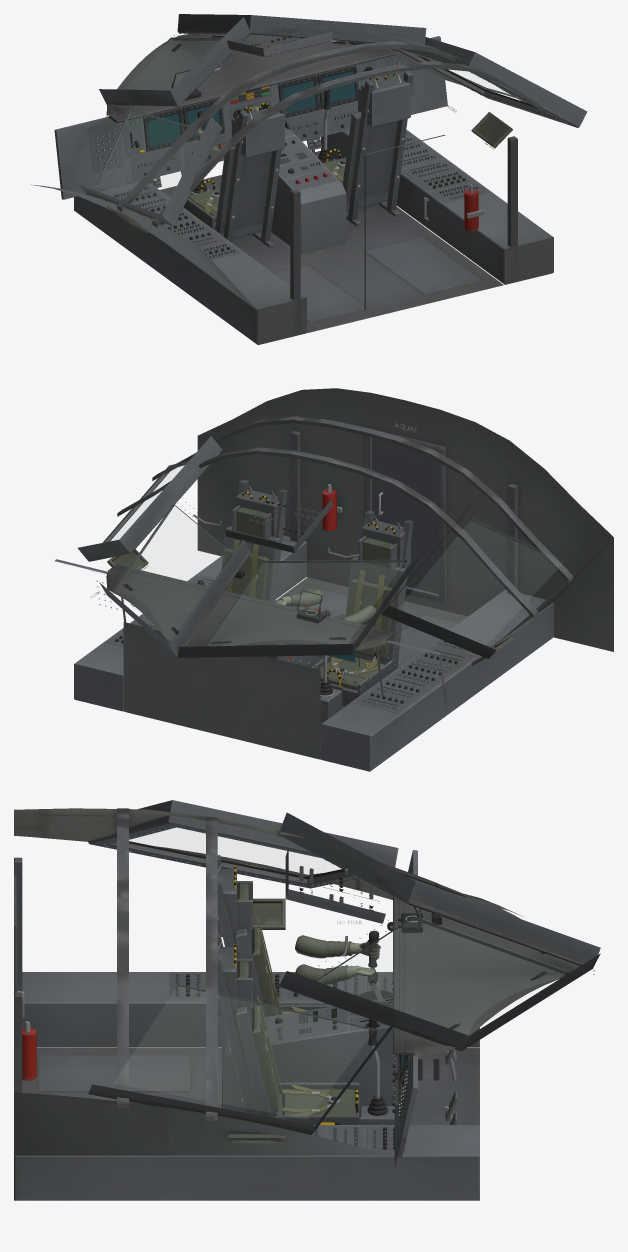
The model's file is manta_cockpit.glb.
The picture shows the model from 3 angles, top to bottom: view 1: azimuth 30°, elevation 25°; view 2: azimuth 150°, elevation 25°; view 3: azimuth 270°, elevation 25°; orthographic projection. The views are drawn at different scales.
Visible parts, largest first — view 1: cockpit_shell, display_map, display_engines, display_cautions; view 2: cockpit_shell, hand_throttle; view 3: cockpit_shell, hand_stick, hand_throttle.
Boxes of the visible parts, x1,y1,x2,y2 form: cockpit_shell: (31, 14, 587, 344); display_map: (147, 113, 180, 146); display_engines: (282, 80, 316, 113); display_cautions: (322, 71, 355, 102); cockpit_shell: (54, 388, 613, 771); hand_throttle: (275, 589, 323, 606); cockpit_shell: (14, 800, 600, 1200); hand_stick: (295, 935, 380, 960); hand_throttle: (295, 964, 378, 986).
Bounding box in the file's own units: 3.72 × 1.7 × 3.58.
Materials: 4 (1 with a texture image).
